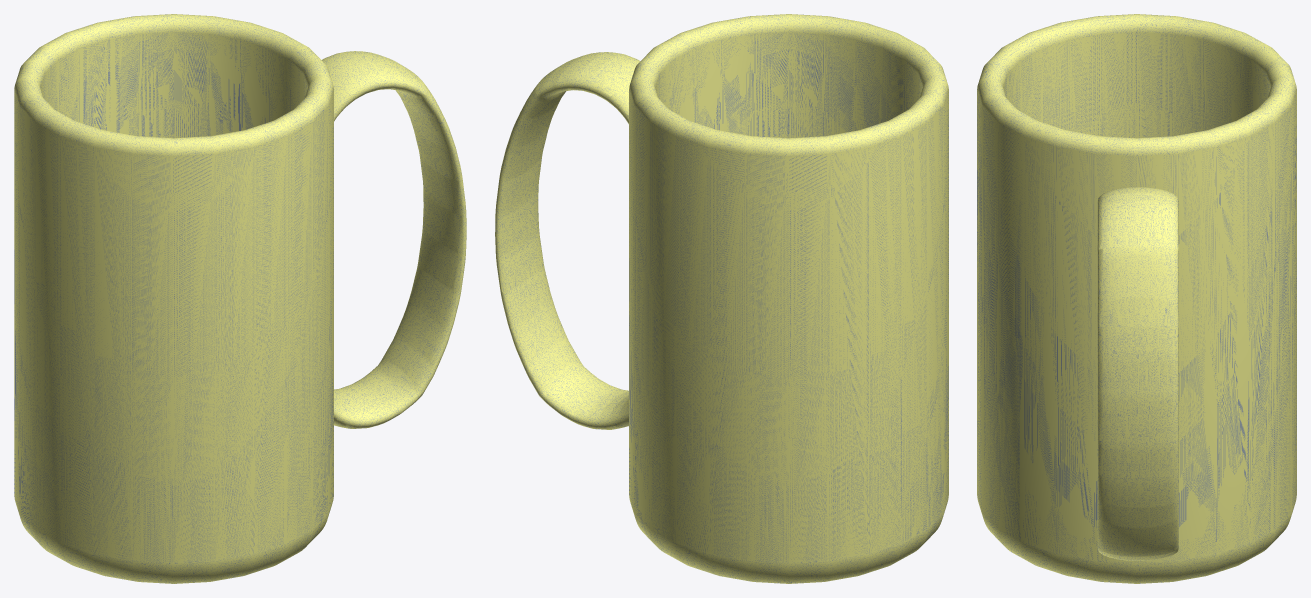
The model's file is koffie kopje .dae.
3 renders of one model, left to right at view 1: azimuth 30°, elevation 25°; view 2: azimuth 150°, elevation 25°; view 3: azimuth 270°, elevation 25°, orthographic.
Visible parts, largest first — view 1: group_0 (×2); view 2: group_0 (×2); view 3: group_0 (×2).
Part boxes in pixels (<box>): group_0 (×2): <box>14,14,466,583</box>; group_0 (×2): <box>495,14,948,583</box>; group_0 (×2): <box>977,14,1296,583</box>.
Size of the model in its own units: 97.17 by 64.42 by 101.
